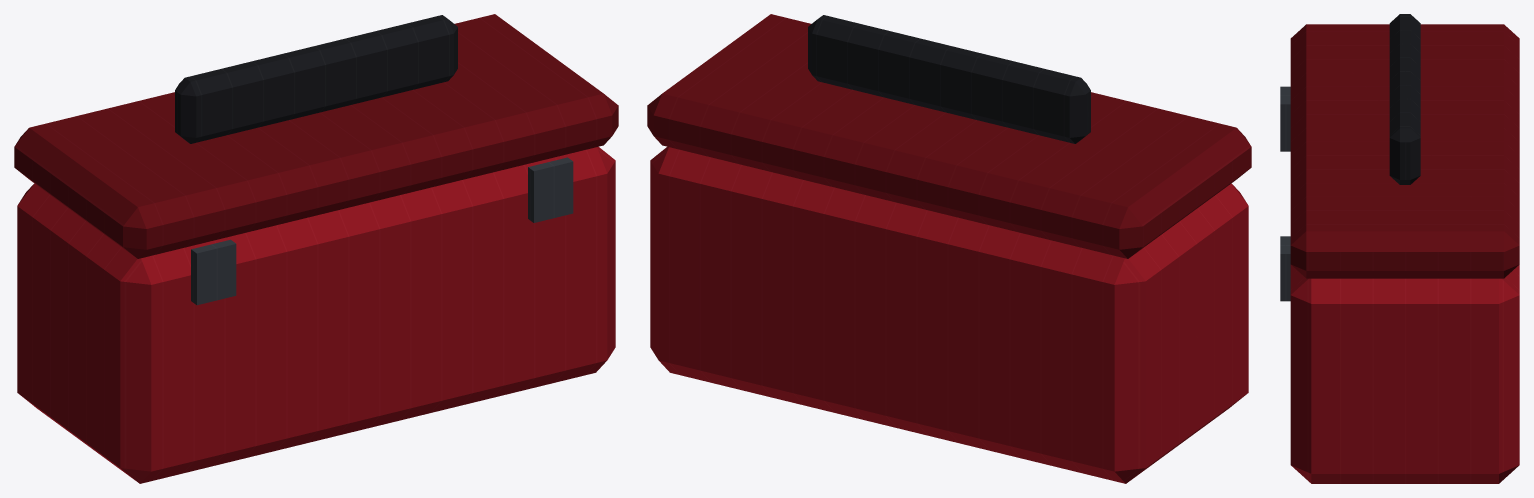
Rendered from kit_toolbox.glb.
3 renders of one model, left to right at view 1: azimuth 30°, elevation 25°; view 2: azimuth 150°, elevation 25°; view 3: azimuth 270°, elevation 25°, orthographic. The views are drawn at different scales.
Visible parts, largest first — view 1: tb_body, tb_lid, tb_handle, tb_latch1, tb_latch-1; view 2: tb_body, tb_lid, tb_handle; view 3: tb_lid, tb_body, tb_handle, tb_latch1, tb_latch-1.
Part boxes in pixels (bbox=[...]): tb_body: bbox=[17, 146, 615, 483]; tb_lid: bbox=[14, 14, 618, 258]; tb_handle: bbox=[175, 15, 457, 143]; tb_latch1: bbox=[528, 157, 573, 222]; tb_latch-1: bbox=[191, 239, 236, 305]; tb_body: bbox=[650, 146, 1248, 483]; tb_lid: bbox=[647, 14, 1251, 258]; tb_handle: bbox=[808, 15, 1090, 143]; tb_lid: bbox=[1290, 24, 1519, 278]; tb_body: bbox=[1290, 265, 1519, 483]; tb_handle: bbox=[1389, 14, 1420, 184]; tb_latch1: bbox=[1280, 236, 1290, 301]; tb_latch-1: bbox=[1280, 86, 1290, 151].
Bounding box in the file's own units: 0.5 × 0.33 × 0.23.
Materials: 4 (4 with a texture image).
